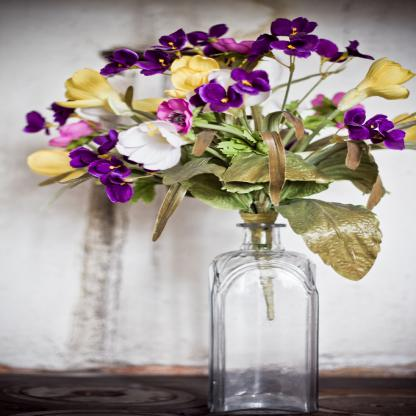vase: (207, 221, 322, 415)
